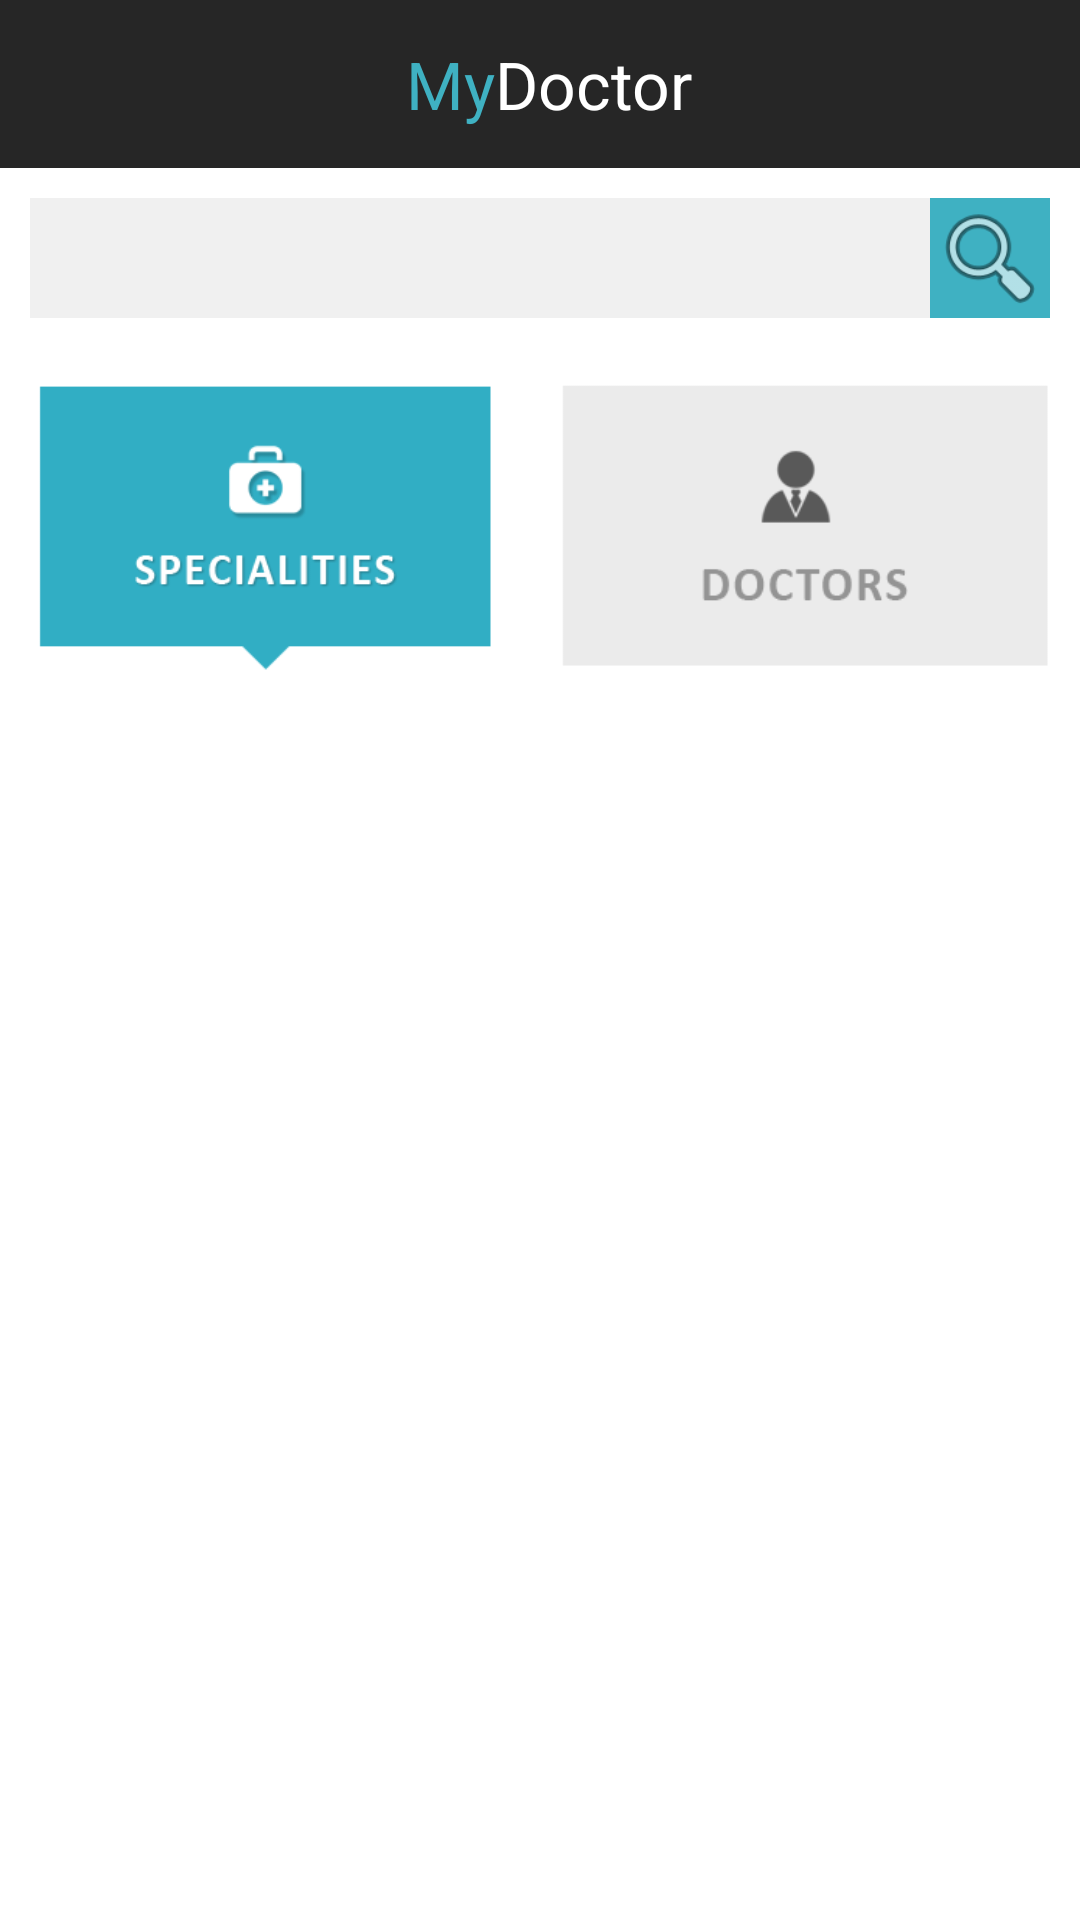

Point at icon controls on the screen. Image size 1080 × 1920, points as (x,y).
search: (990,258)
